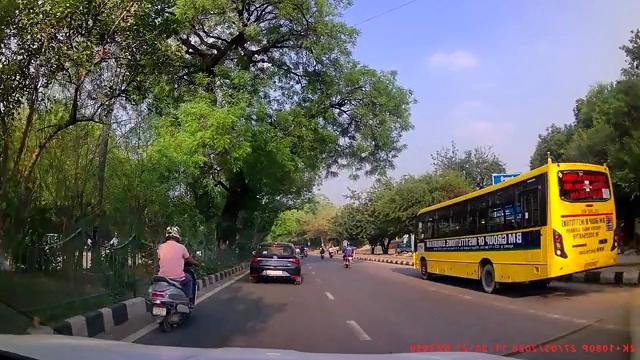motorcycle_with_helmet: (147, 224, 198, 333)
